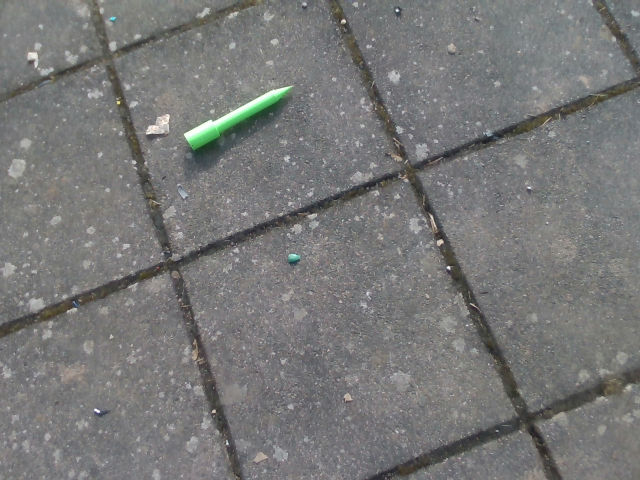Probe: (181, 78, 299, 155)
